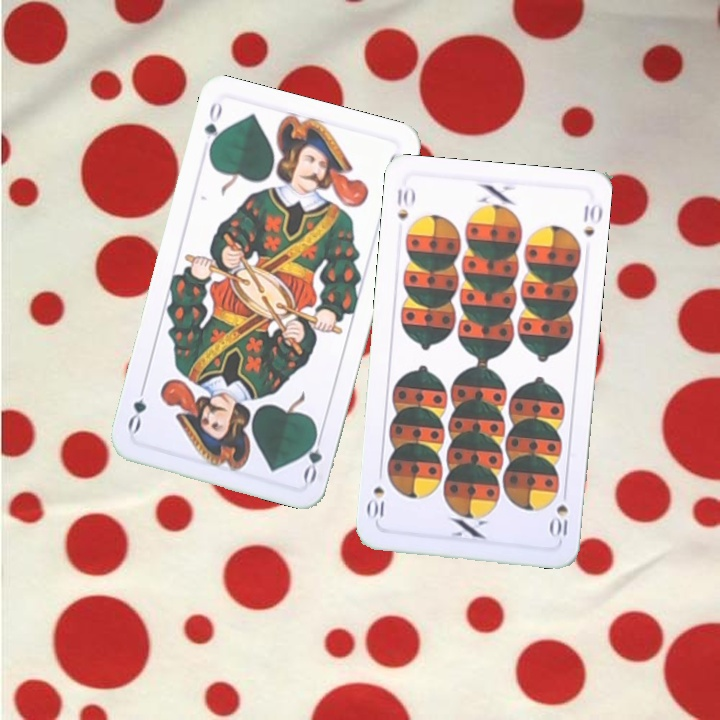GO: (299, 425, 326, 485), (200, 98, 226, 158)
S10: (547, 484, 570, 540), (393, 184, 417, 224)
